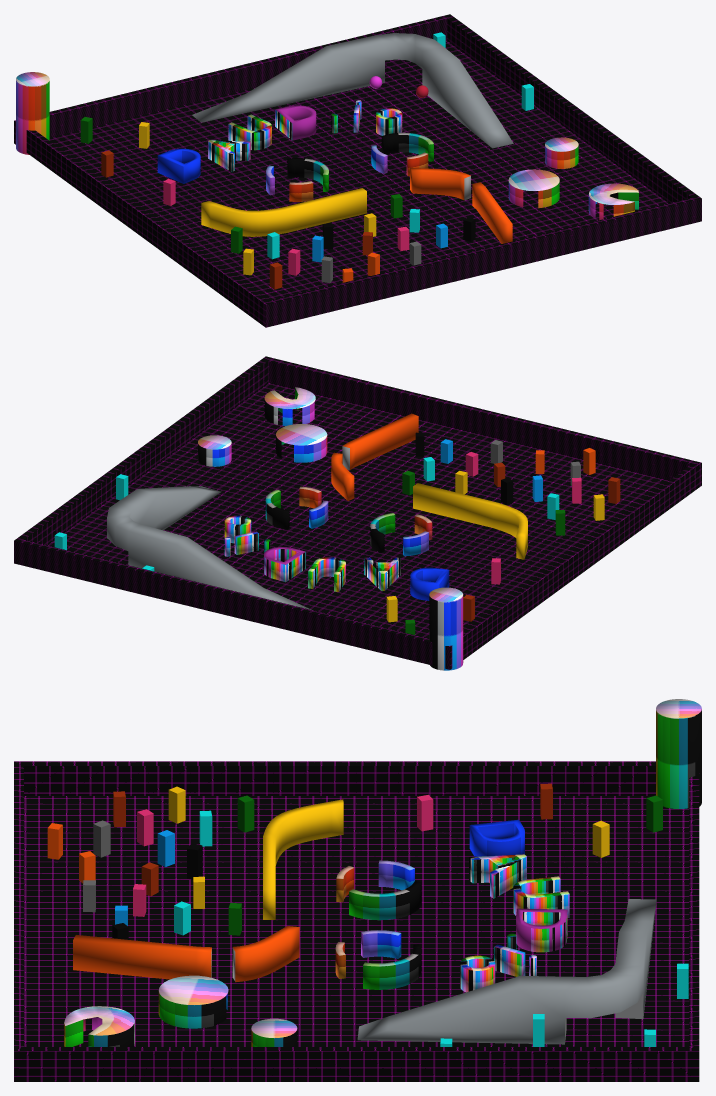
3 renders of one model, top to bottom at view 1: azimuth 30°, elevation 25°; view 2: azimuth 150°, elevation 25°; view 3: azimuth 270°, elevation 25°, orthographic. The views are drawn at different scales.
Parts seen in each view (by area): view 1: Cube.001; view 2: Cube.001; view 3: Cube.001.
Part boxes in pixels (box(x1,y1,x2,y2)): Cube.001: box(14, 14, 701, 327); Cube.001: box(14, 356, 701, 670); Cube.001: box(14, 699, 701, 1081).
Bounding box in the file's own units: 20149 × 3017 × 20075.
3 materials, 3 textured.
